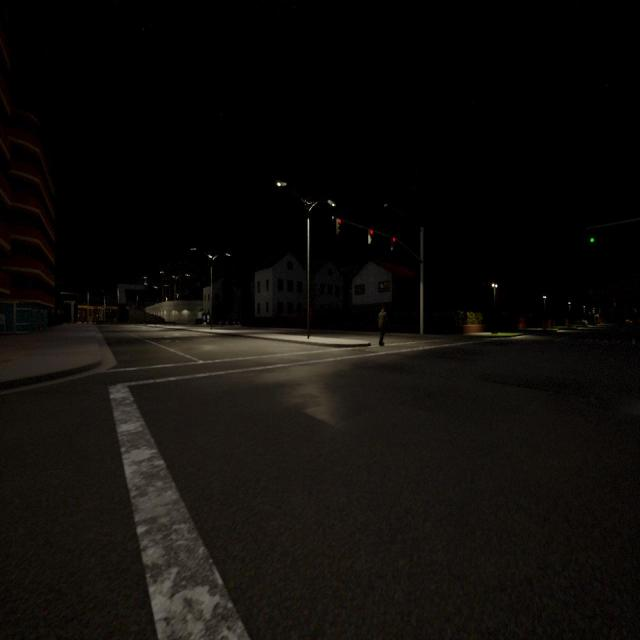Pedestrian: (378, 307, 388, 345)
traffic_light: (336, 219, 341, 235), (391, 238, 396, 251), (368, 230, 373, 243), (590, 230, 594, 242)
